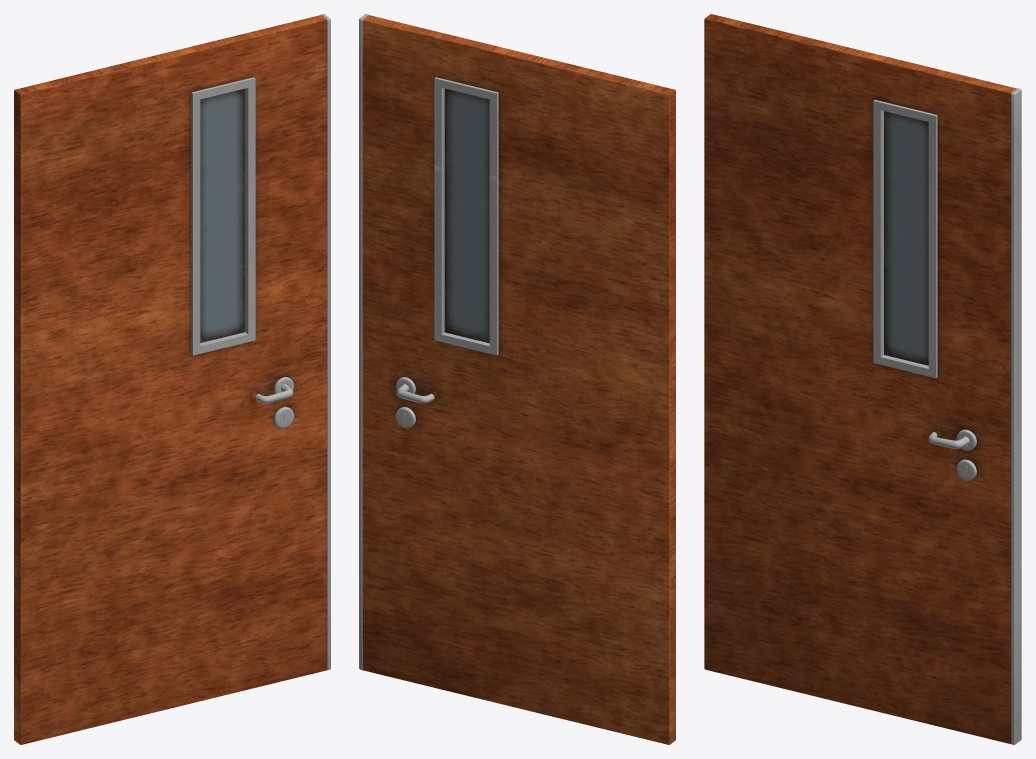
File: hw_door_1.glb
3 views of the same model, side by side, from view 1: azimuth 30°, elevation 25°; view 2: azimuth 150°, elevation 25°; view 3: azimuth 330°, elevation 25° (orthographic).
Visible parts, largest first — view 1: Door_1, Handle_front.001; view 2: Door_1, Handle_back.001; view 3: Door_1, Handle_front.001.
Boxes of the visible parts, x1,y1,x2,y2 form: Door_1: (14, 14, 330, 744); Handle_front.001: (255, 377, 294, 403); Door_1: (359, 14, 675, 744); Handle_back.001: (396, 377, 434, 403); Door_1: (704, 14, 1021, 744); Handle_front.001: (928, 429, 976, 450).
Bounding box in the file's own units: 0.9995 × 2 × 0.1546.
Materials: 1 (1 with a texture image).
